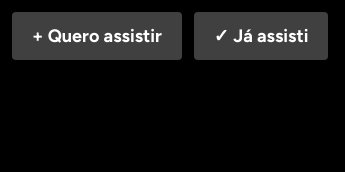
it: marca na hora e chama a ação com o caminho atual
The width and height of the screenshot is (345, 172).
Click the button "+ Quero assistir" at (97, 36), box [12,12,182,60]
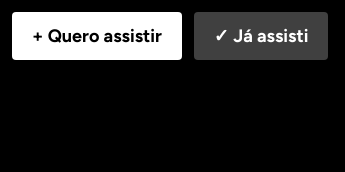
Check: the button "+ Quero assistir" is pressed, box [12,12,182,60]
